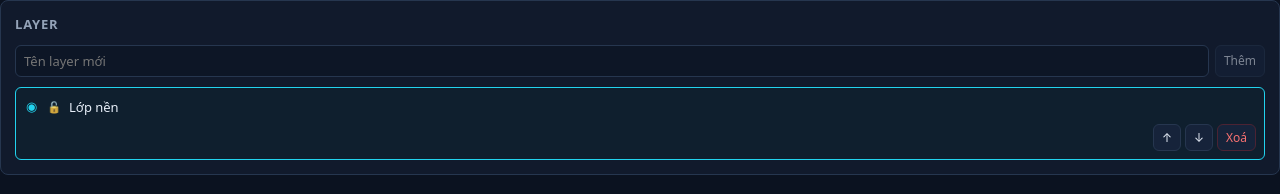
Scenario: LayerPanel › does not rename when Escape is pressed
Double-click the button with test id "layer-name-layer-1" at (94, 106), box [69,96,1256,118]
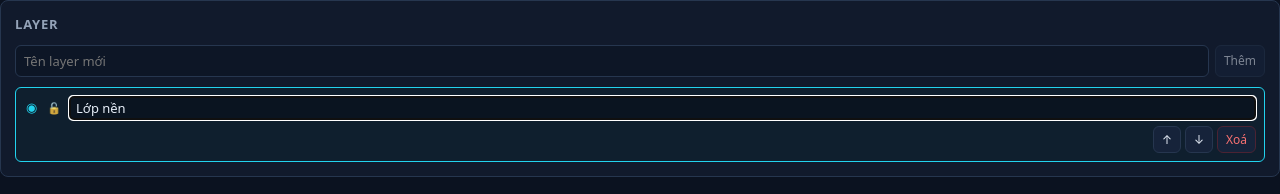
Type "abc" into the field with test id "layer-name-input-layer-1" at (663, 108), box [69,96,1256,120]
Then press Escape
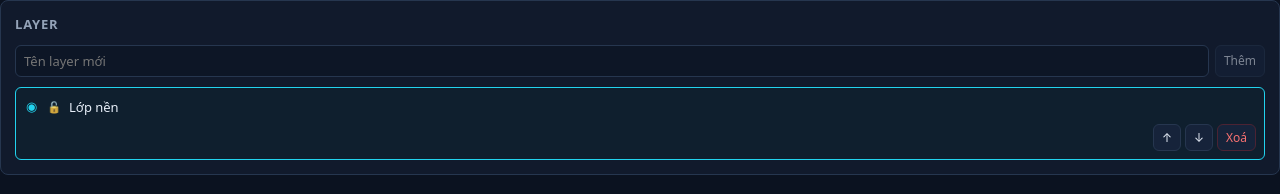
Expected: the button with test id "layer-name-layer-1" is shown, [69,96,1256,118]
